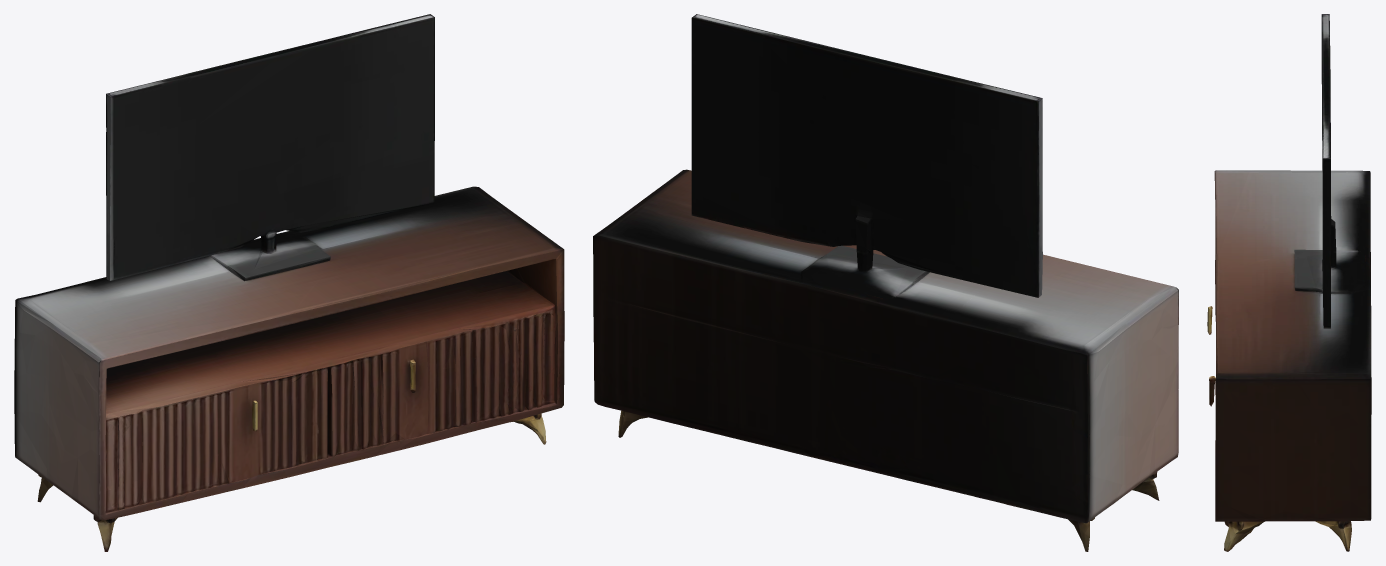
Rendered from tvStand.glb.
The picture shows the model from 3 angles, left to right: view 1: azimuth 30°, elevation 25°; view 2: azimuth 150°, elevation 25°; view 3: azimuth 270°, elevation 25°; orthographic projection. The views are drawn at different scales.
Visible parts, largest first — view 1: world; view 2: world; view 3: world.
Boxes of the visible parts, box(x1,y1,x2,y2) form: world: box(14, 14, 564, 551); world: box(593, 14, 1178, 551); world: box(1207, 14, 1371, 551).
Bounding box in the file's own units: 0.9945 × 0.8219 × 0.3324.
Materials: 1 (1 with a texture image).
